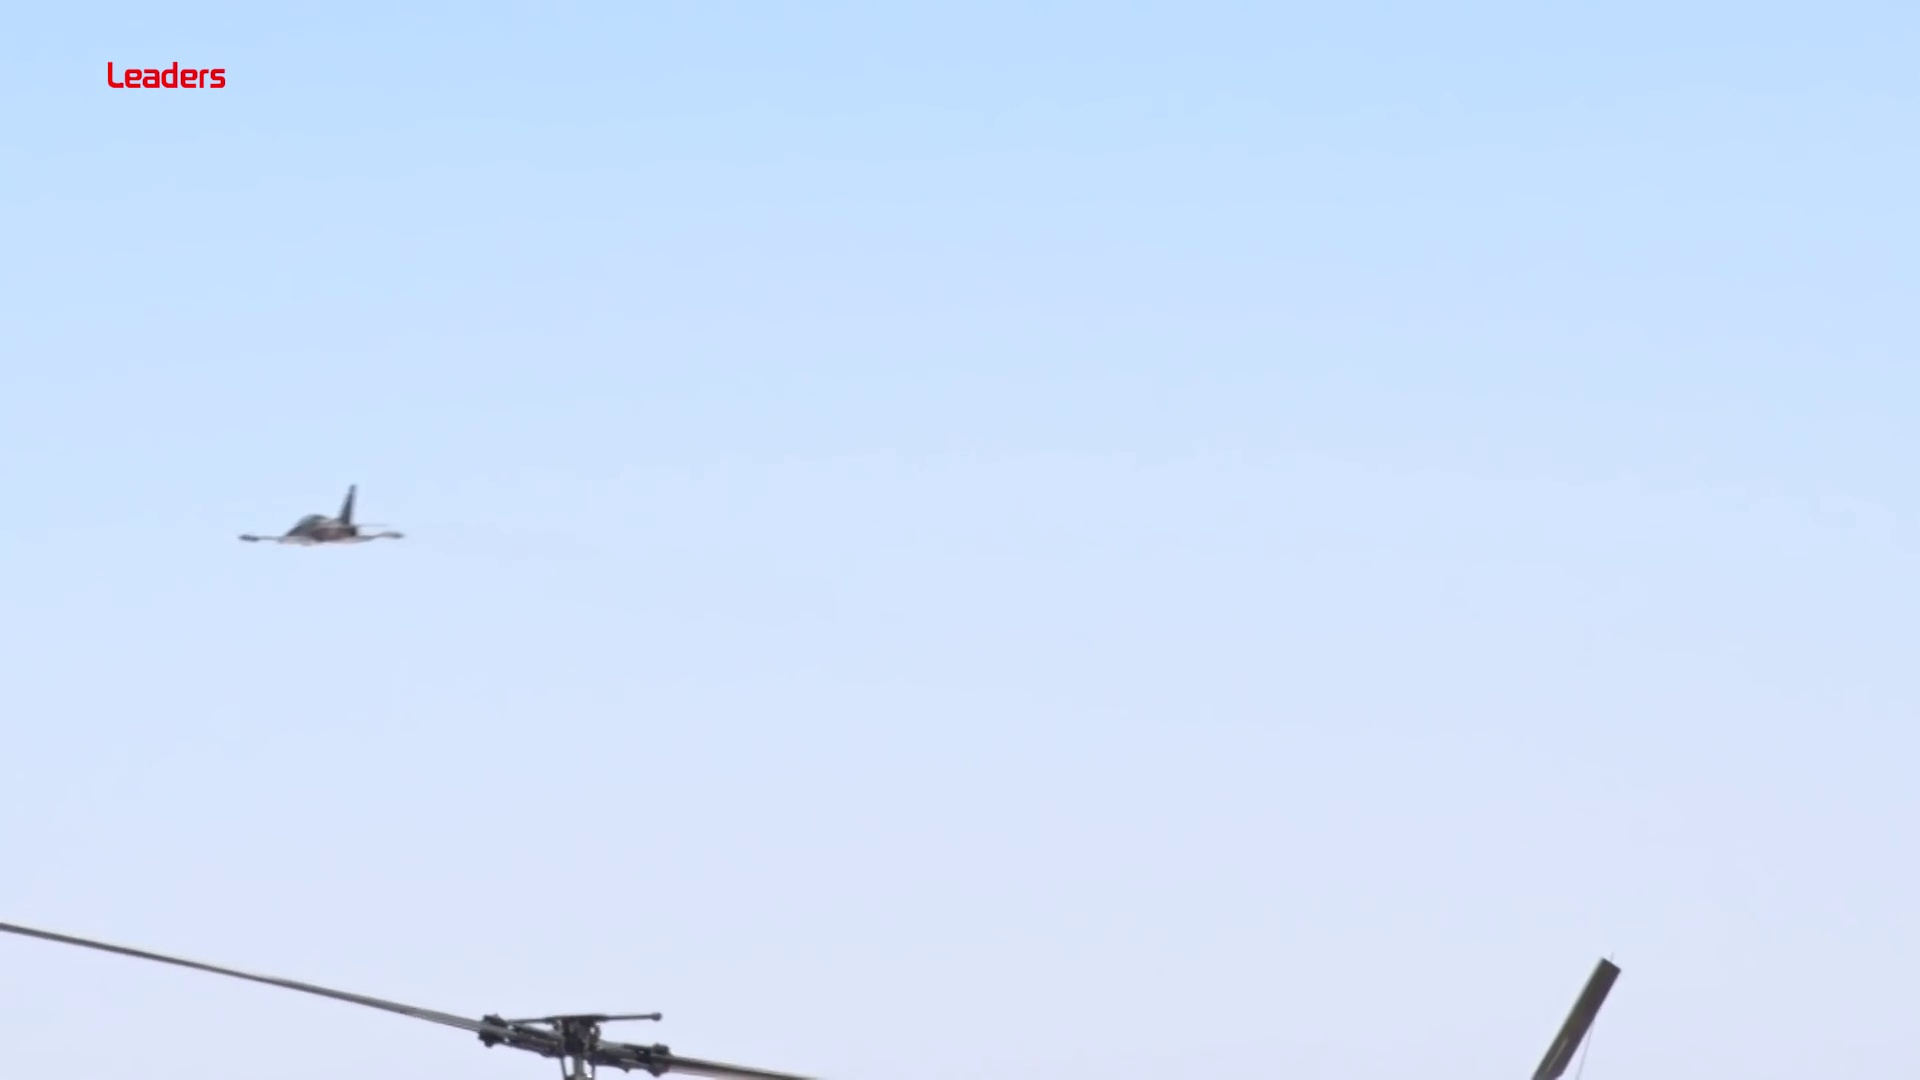Airplane: (233, 480, 404, 550)
